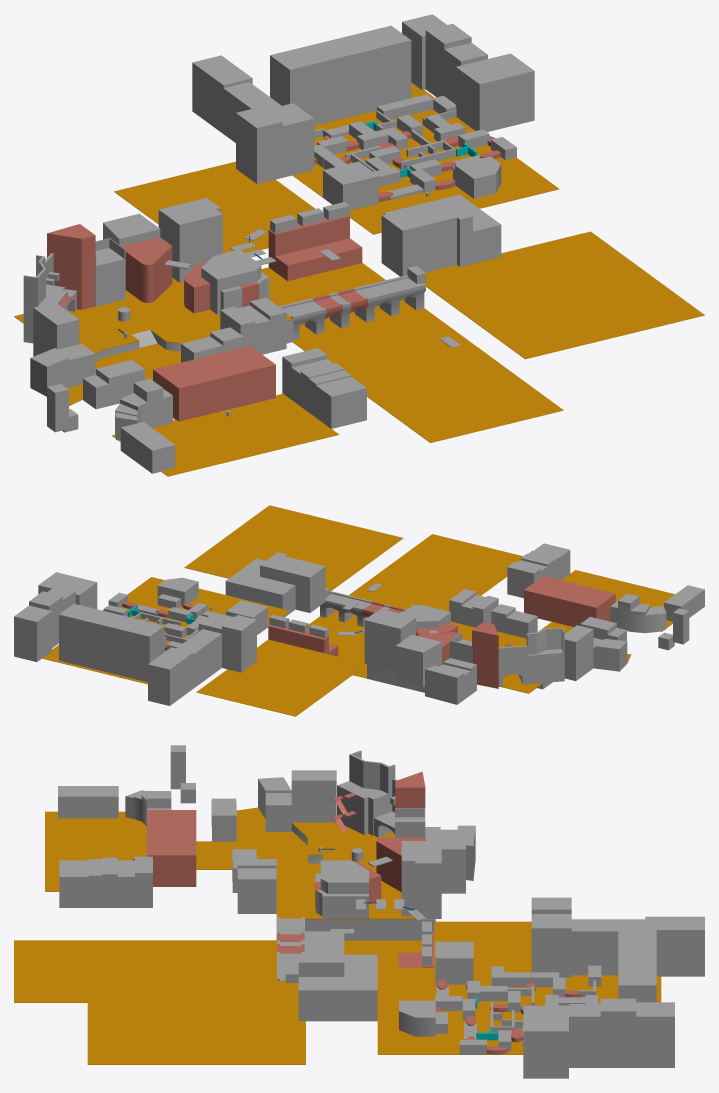
Rendered from Pill world export 1.fbx.
3 views of the same model, one above another, from view 1: azimuth 30°, elevation 25°; view 2: azimuth 150°, elevation 25°; view 3: azimuth 270°, elevation 25° (orthographic). The views are drawn at different scales.
Visible parts, largest first — view 1: pCube51, pCube30, pCube59, pCube61, pCube60, pCube1, pCube56, pCube50, pCube48, pCube2, pCube9, pCube38 (+23 smaller); view 2: pCube51, pCube30, pCube56, pCube59, pCube60, pCube50, pCube61, pCube2, pCube26, pCube48, pCube31, pCube38 (+22 smaller); view 3: pCube30, pCube51, pCube61, pCube60, pCube48, pCube50, pCube1, pCube9, pCube38, pCube26, pCube2, pCube56 (+20 smaller).
Boxes of the visible parts, box(x1,y1,x2,y2) form: pCube51: box(261, 263, 563, 442); pCube30: box(422, 231, 704, 359); pCube59: box(270, 25, 411, 125); pCube61: box(402, 14, 534, 131); pCube60: box(192, 55, 314, 183); pCube1: box(112, 393, 339, 476); pCube56: box(114, 161, 315, 253); pCube50: box(381, 194, 501, 276); pCube48: box(292, 83, 559, 234); pCube2: box(153, 346, 275, 421); pCube9: box(14, 278, 293, 353); pCube38: box(282, 348, 366, 428); pCube51: box(308, 534, 522, 678); pCube30: box(184, 505, 403, 590); pCube56: box(196, 639, 366, 716); pCube59: box(59, 603, 164, 682); pCube60: box(148, 612, 256, 705); pCube50: box(225, 552, 325, 617); pCube61: box(14, 572, 97, 661); pCube2: box(524, 576, 615, 626); pCube26: box(564, 625, 627, 680); pCube48: box(42, 577, 289, 684); pCube31: box(364, 609, 415, 670); pCube38: box(507, 543, 570, 598); pCube30: box(87, 980, 305, 1064); pCube51: box(14, 940, 434, 1002); pCube61: box(523, 998, 674, 1078); pCube60: box(531, 897, 704, 977); pCube48: box(377, 967, 661, 1054); pCube50: box(298, 931, 377, 1021); pCube1: box(45, 811, 236, 891); pCube9: box(276, 822, 415, 919); pCube38: box(59, 856, 152, 907); pCube26: box(258, 770, 336, 831); pCube2: box(146, 810, 196, 886); pCube56: box(434, 921, 531, 967).
Bounding box in the file's own units: 47.84 × 6.8 × 45.13.
